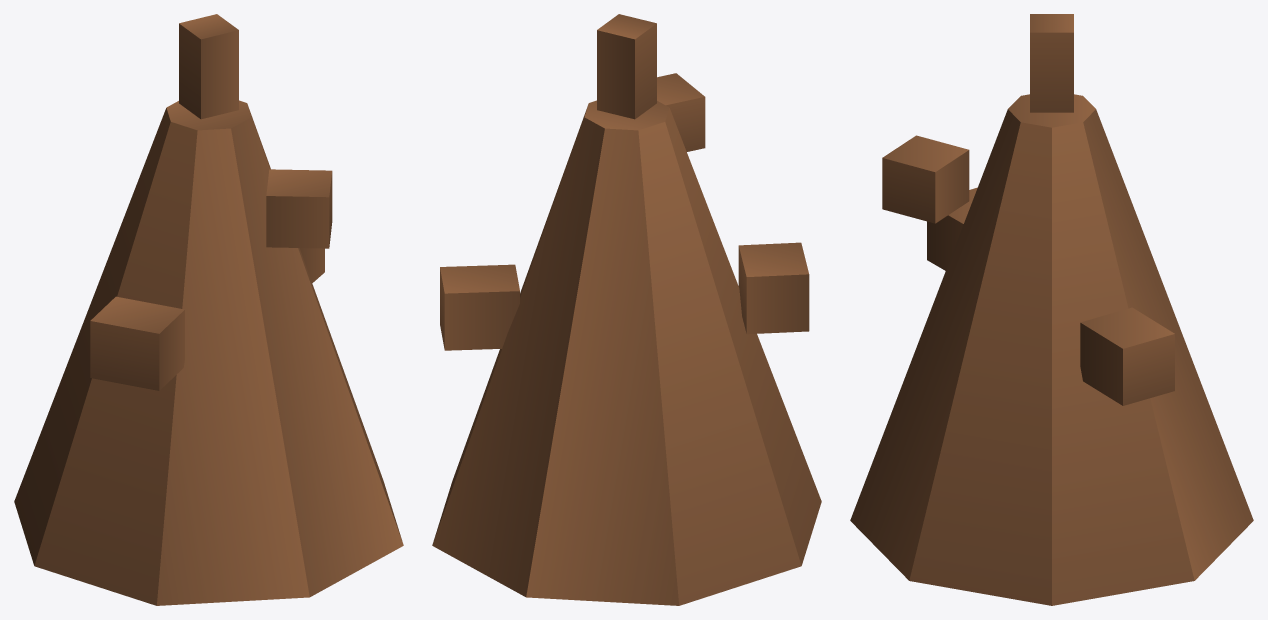
Rendered from pine_cone.fbx.
3 renders of one model, left to right at view 1: azimuth 30°, elevation 25°; view 2: azimuth 150°, elevation 25°; view 3: azimuth 270°, elevation 25°, orthographic.
Visible parts, largest first — view 1: pine_cone; view 2: pine_cone; view 3: pine_cone.
Part boxes in pixels (x1,y1,x2,y2): pine_cone: (14, 14, 403, 605); pine_cone: (432, 14, 821, 605); pine_cone: (850, 14, 1253, 605).
Bounding box in the file's own units: 51.49 × 70 × 51.49.
